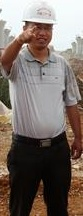hard-hat: (21, 0, 57, 25)
